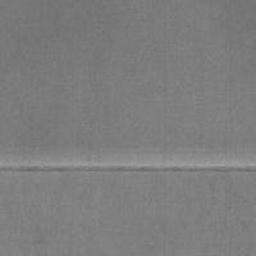Welding line: (0, 166, 256, 172)
